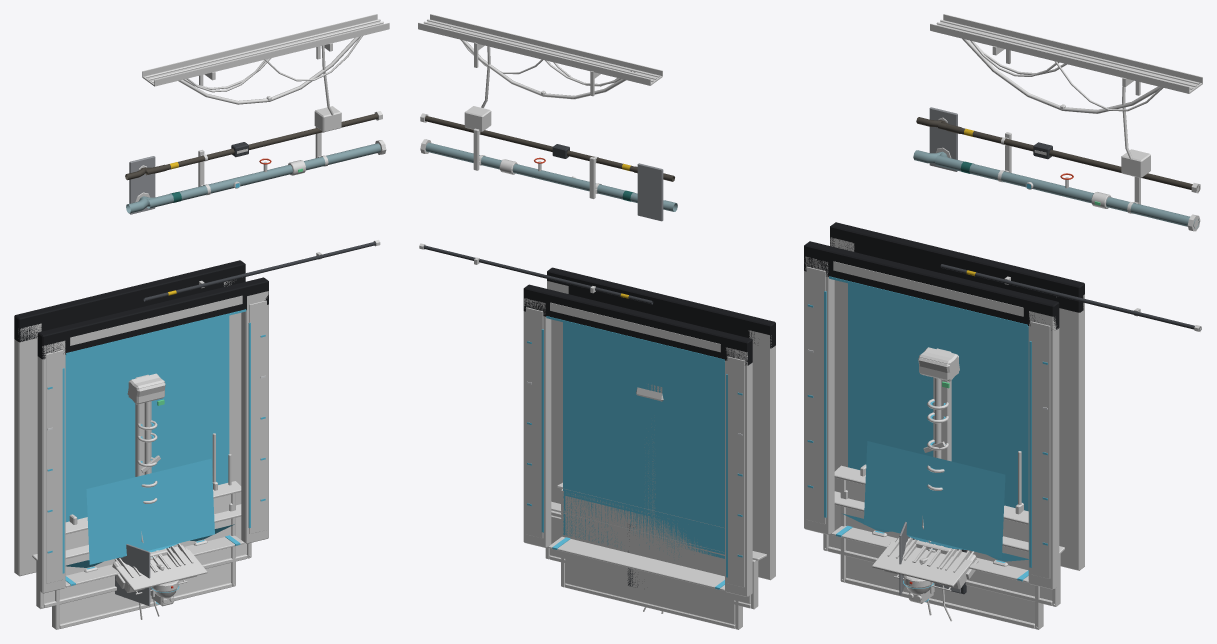
File: props_wall.glb
3 renders of one model, left to right at view 1: azimuth 30°, elevation 25°; view 2: azimuth 150°, elevation 25°; view 3: azimuth 330°, elevation 25°, orthographic. The views are drawn at different scales.
Parts seen in each view (by area): view 1: gate_v0, holoproj_v0, sign_v0, tray_v0, pipe_v0, signl_v0, pylon_v0, lamp_v2, pipeend_L, panel_v2, pipe_v1, tray_v2 (+5 smaller); view 2: gate_v0, sign_v0, tray_v0, pipe_v0, signl_v0, pipeend_L, pipe_v1, tray_v2, tray_v1; view 3: gate_v0, holoproj_v0, sign_v0, tray_v0, pipe_v0, signl_v0, pylon_v0, lamp_v2, pipeend_L, pipe_v1, tray_v2, tray_v1 (+4 smaller).
Part boxes in pixels (x1=…): gate_v0: x1=14, y1=260, x2=268, y2=593; holoproj_v0: x1=86, y1=458, x2=214, y2=564; sign_v0: x1=52, y1=493, x2=235, y2=629; tray_v0: x1=142, y1=14, x2=389, y2=89; pipe_v0: x1=145, y1=111, x2=386, y2=208; signl_v0: x1=36, y1=516, x2=251, y2=608; pylon_v0: x1=128, y1=374, x2=167, y2=557; lamp_v2: x1=114, y1=543, x2=207, y2=590; pipeend_L: x1=129, y1=156, x2=167, y2=214; panel_v2: x1=115, y1=544, x2=159, y2=619; pipe_v1: x1=143, y1=240, x2=380, y2=301; tray_v2: x1=186, y1=45, x2=341, y2=132; gate_v0: x1=523, y1=267, x2=775, y2=597; sign_v0: x1=561, y1=489, x2=742, y2=629; tray_v0: x1=418, y1=14, x2=662, y2=96; pipe_v0: x1=420, y1=113, x2=637, y2=202; signl_v0: x1=545, y1=510, x2=758, y2=609; pipeend_L: x1=633, y1=163, x2=663, y2=221; pipe_v1: x1=419, y1=243, x2=653, y2=304; tray_v2: x1=464, y1=46, x2=618, y2=131; tray_v1: x1=450, y1=26, x2=635, y2=99; gate_v0: x1=804, y1=222, x2=1084, y2=589; holoproj_v0: x1=863, y1=441, x2=1005, y2=558; sign_v0: x1=840, y1=479, x2=1043, y2=629; tray_v0: x1=930, y1=14, x2=1202, y2=111; pipe_v0: x1=935, y1=122, x2=1200, y2=231; signl_v0: x1=823, y1=505, x2=1060, y2=606; pylon_v0: x1=915, y1=348, x2=958, y2=554; lamp_v2: x1=872, y1=539, x2=974, y2=586; pipeend_L: x1=929, y1=107, x2=961, y2=171; pipe_v1: x1=940, y1=264, x2=1201, y2=331; tray_v2: x1=970, y1=40, x2=1150, y2=177; tray_v1: x1=962, y1=38, x2=1160, y2=113.
Size of the model in its own units: 4.45 by 6.64 by 1.02.
